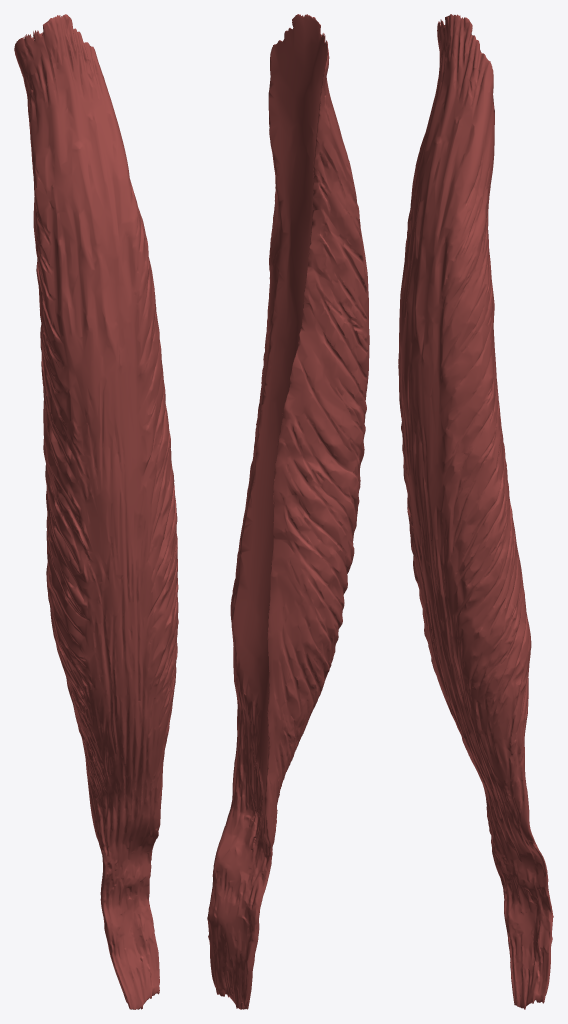
Rendered from FMA38934.glb.
3 views of the same model, side by side, from view 1: azimuth 30°, elevation 25°; view 2: azimuth 150°, elevation 25°; view 3: azimuth 330°, elevation 25° (orthographic). The views are drawn at different scales.
Visible parts, largest first — view 1: FMA38934; view 2: FMA38934; view 3: FMA38934.
Part boxes in pixels (x1=…): FMA38934: x1=14, y1=14, x2=178, y2=1009; FMA38934: x1=207, y1=14, x2=369, y2=1009; FMA38934: x1=398, y1=14, x2=553, y2=1009.
Size of the model in its own units: 0.0548 by 0.3958 by 0.0464.
